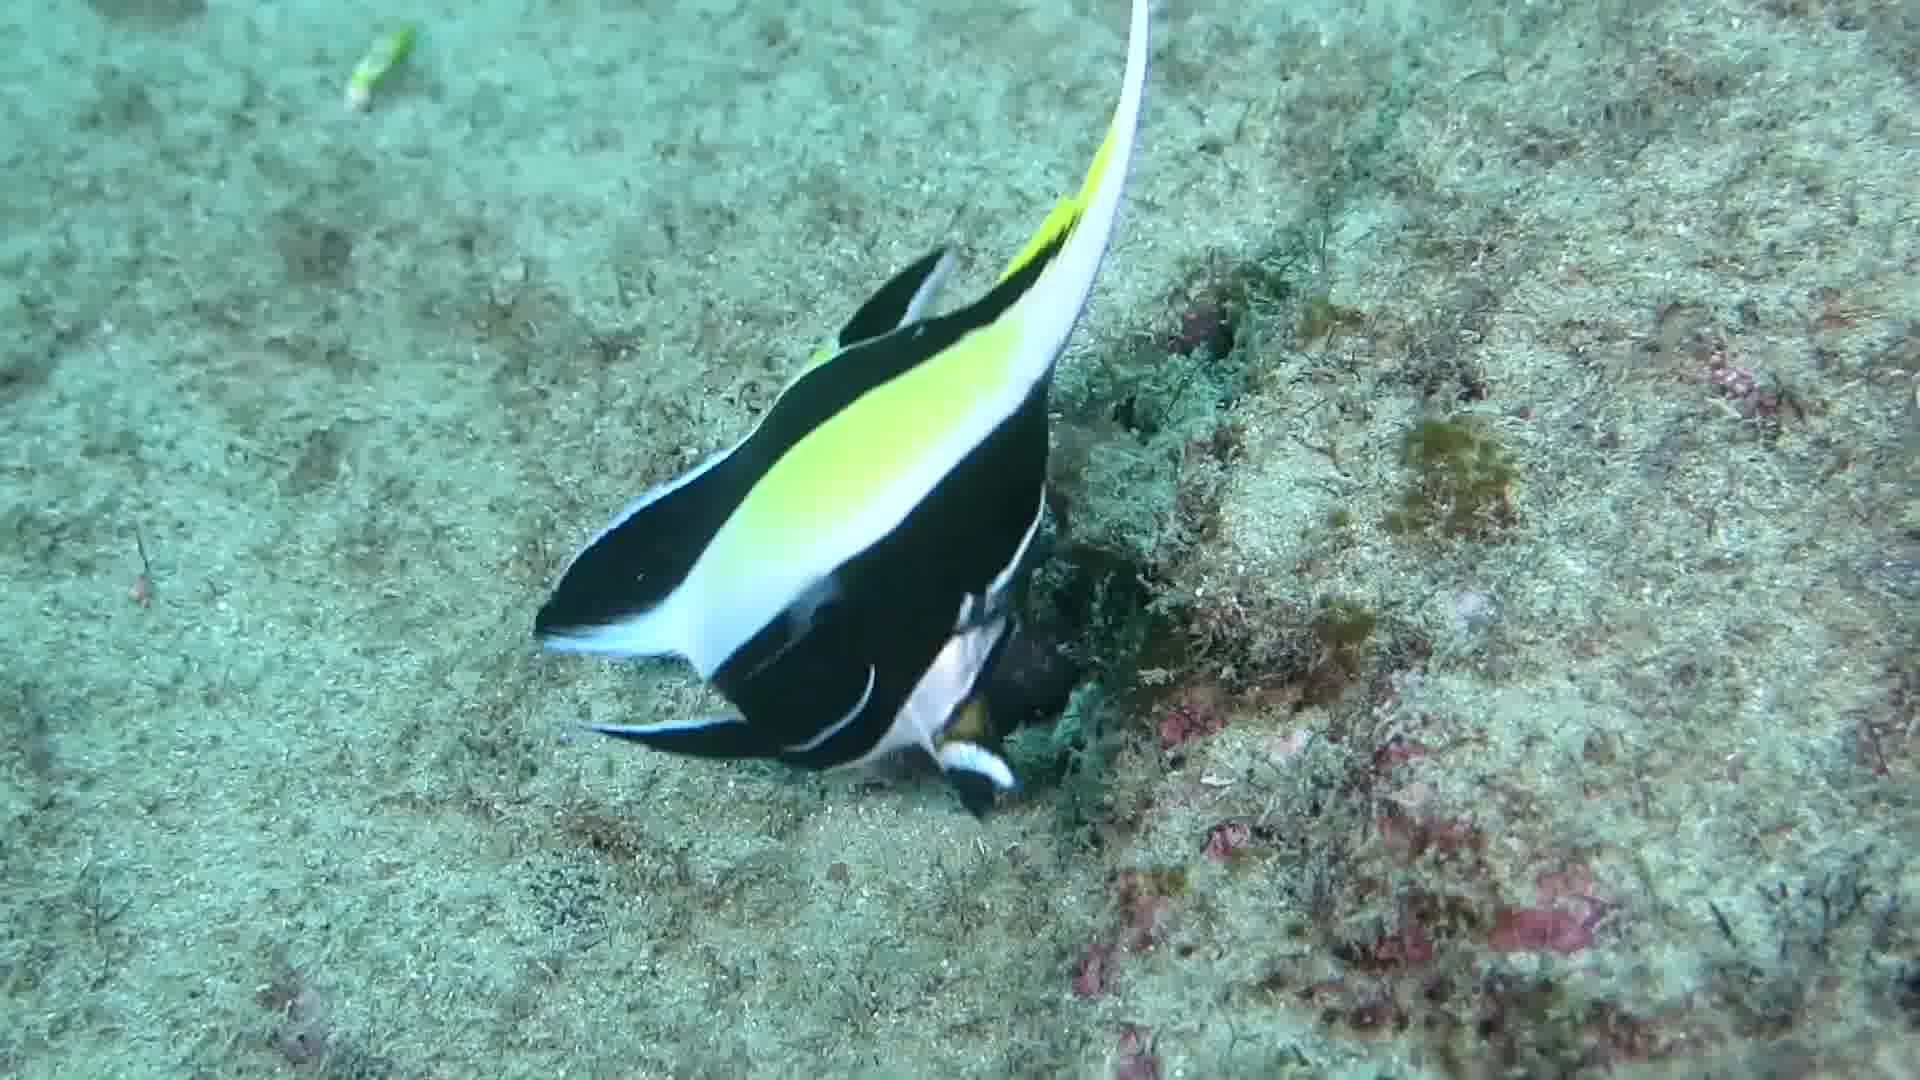Zanclus cornutus: (510, 216, 1164, 851)
